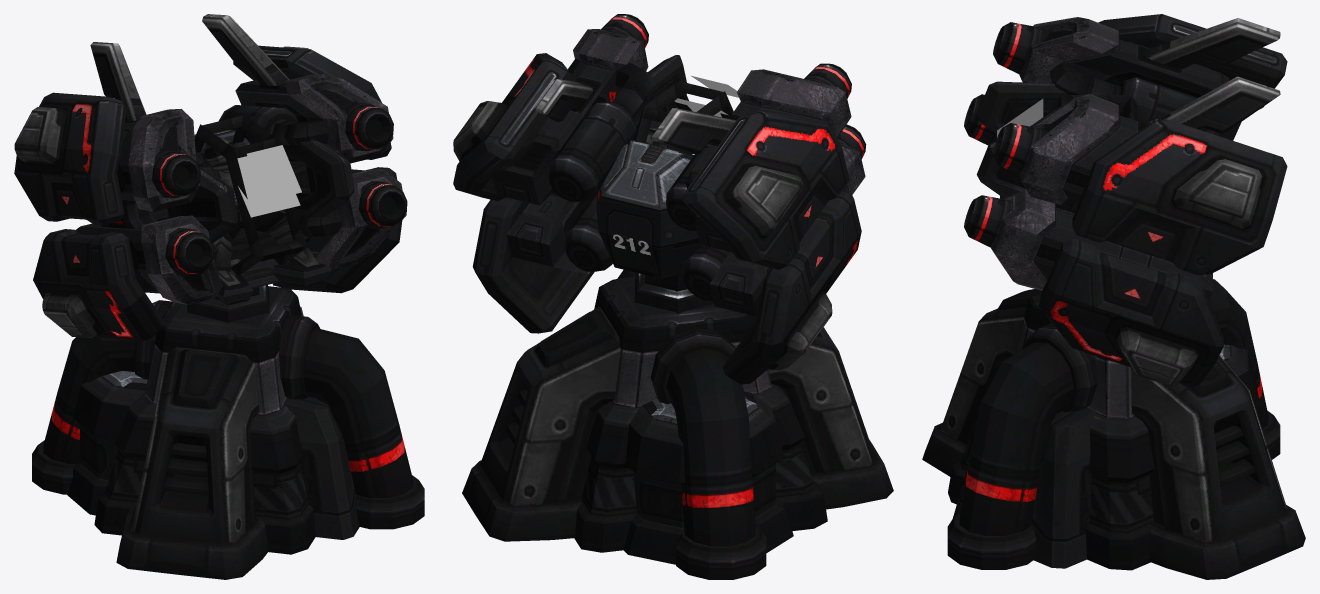
The model's file is MissileTurret.obj.
3 renders of one model, left to right at view 1: azimuth 30°, elevation 25°; view 2: azimuth 150°, elevation 25°; view 3: azimuth 270°, elevation 25°, orthographic. The views are drawn at different scales.
Visible parts, largest first — view 1: Shadow_MissileTurret.m3_fixed.m3.002; view 2: Shadow_MissileTurret.m3_fixed.m3.002; view 3: Shadow_MissileTurret.m3_fixed.m3.002.
Part boxes in pixels (left/top/right/bottom): Shadow_MissileTurret.m3_fixed.m3.002: left=14, top=14, right=424, bottom=579; Shadow_MissileTurret.m3_fixed.m3.002: left=453, top=14, right=893, bottom=579; Shadow_MissileTurret.m3_fixed.m3.002: left=922, top=14, right=1305, bottom=579.
Size of the model in its own units: 1.39 by 1.81 by 1.39.
3 materials, 2 textured.
